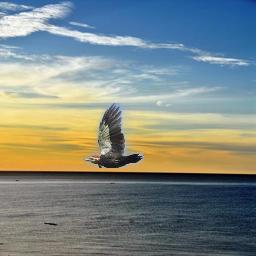Woodpecker: (83, 103, 144, 168)
